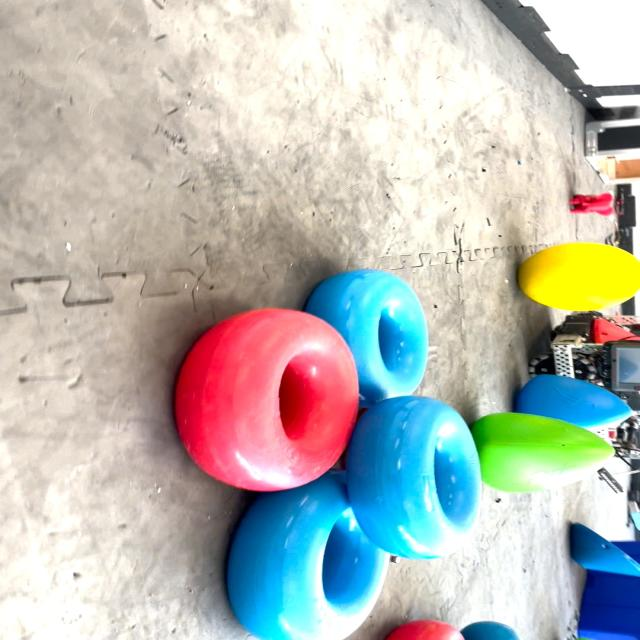Blue-Ring: (227, 470, 389, 640), (347, 396, 480, 560), (304, 269, 429, 407)
Red-Ring: (176, 309, 358, 491)
